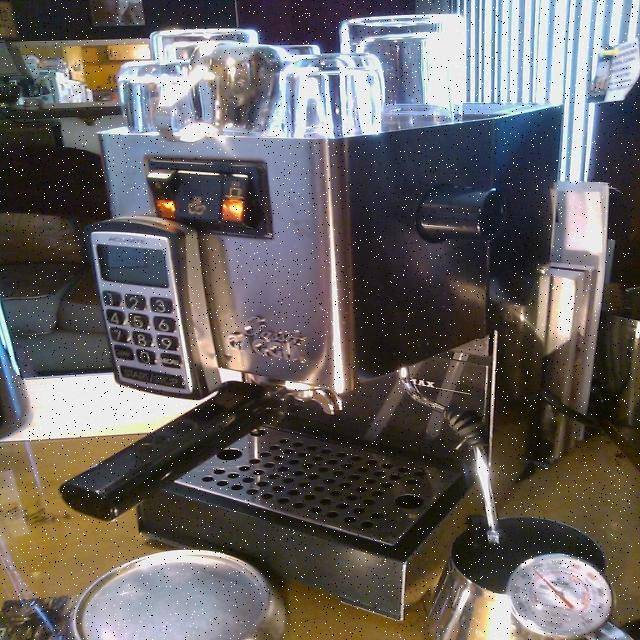Coffee-Machine: (0, 6, 596, 542)
